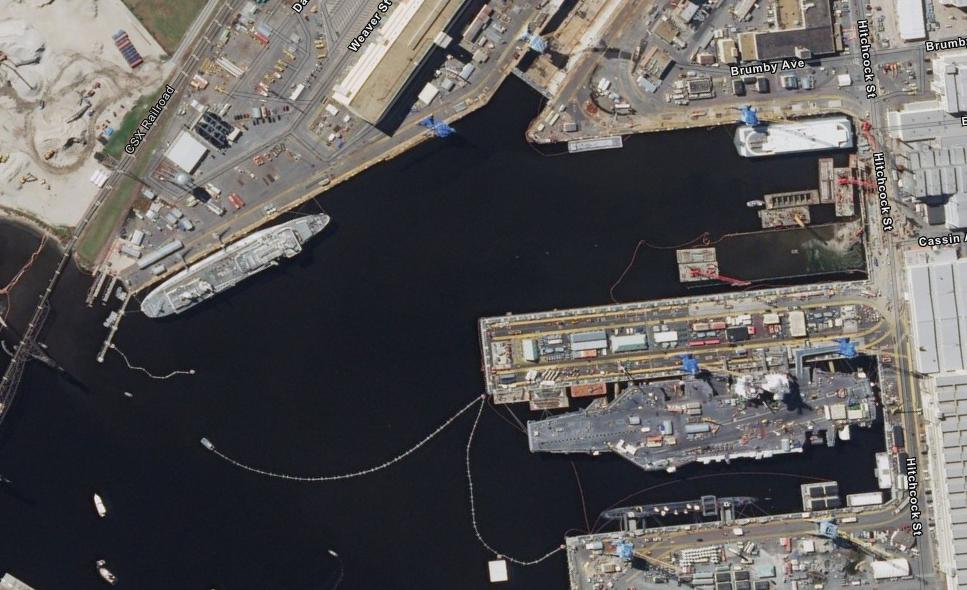carrier: (525, 356, 880, 474)
submarine: (596, 491, 766, 528)
